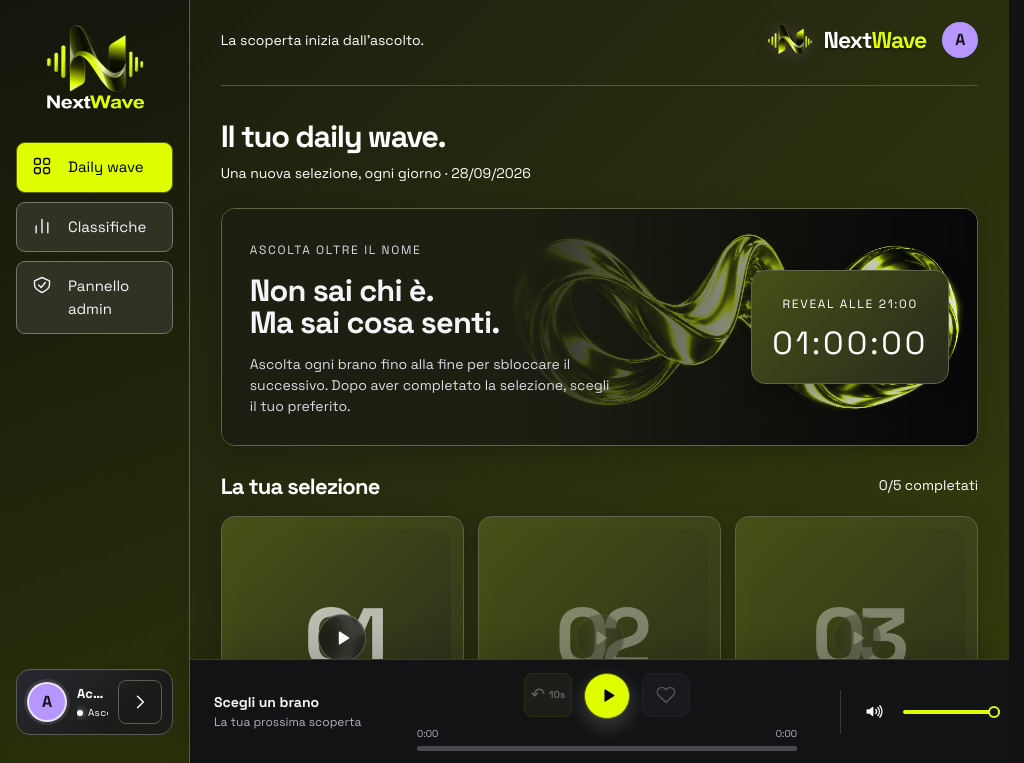
Scenario: account cloud › un admin aggiuntivo non vede la gestione degli account
Expected: the navigation bar named "Navigazione principale" is shown, [16,142,173,334]
Expected: the heading "La tua selezione" is shown, [221,474,380,498]
Click the link "Pannello admin" at (94, 298), box [16,261,173,334]
(page scrolled)
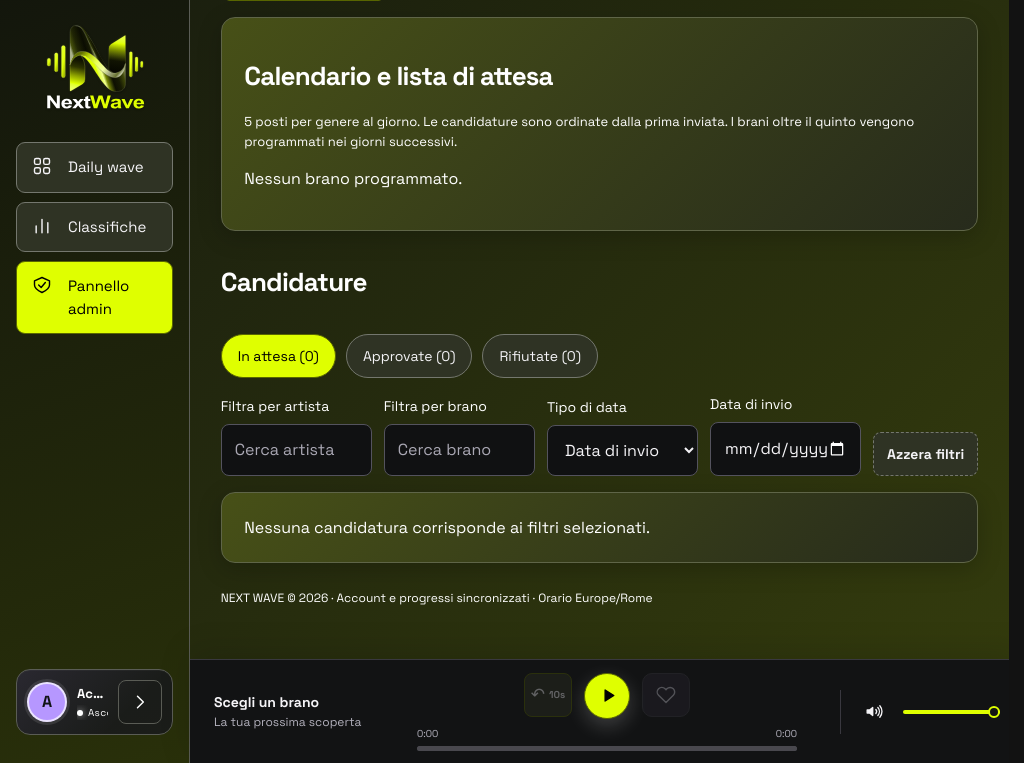
Now the text "Nessuna candidatura corrisponde ai filtri selezionati." is shown, box [221,492,978,563]
